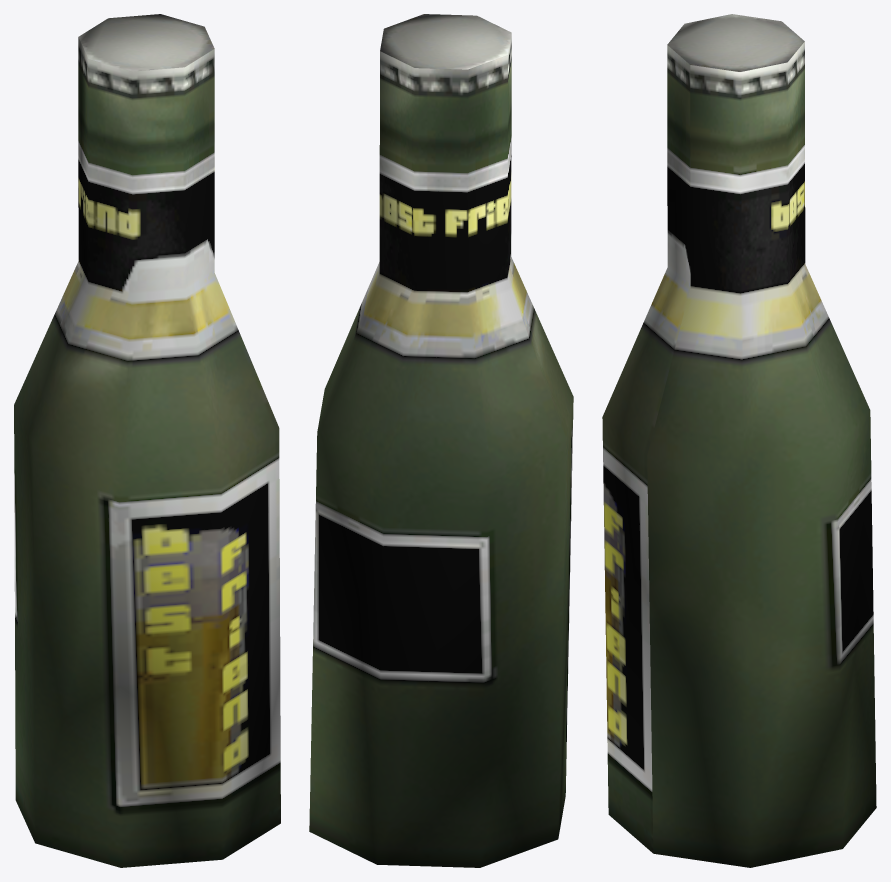
File: beer.glb
3 views of the same model, side by side, from view 1: azimuth 30°, elevation 25°; view 2: azimuth 150°, elevation 25°; view 3: azimuth 270°, elevation 25° (orthographic).
Parts seen in each view (by area): view 1: Cylinder03; view 2: Cylinder03; view 3: Cylinder03.
Part boxes in pixels (left/top/right/bottom): Cylinder03: left=14, top=14, right=280, bottom=867; Cylinder03: left=309, top=14, right=573, bottom=867; Cylinder03: left=602, top=14, right=876, bottom=867.
Size of the model in its own units: 5.05 by 15.62 by 5.07.
1 material, 1 textured.
